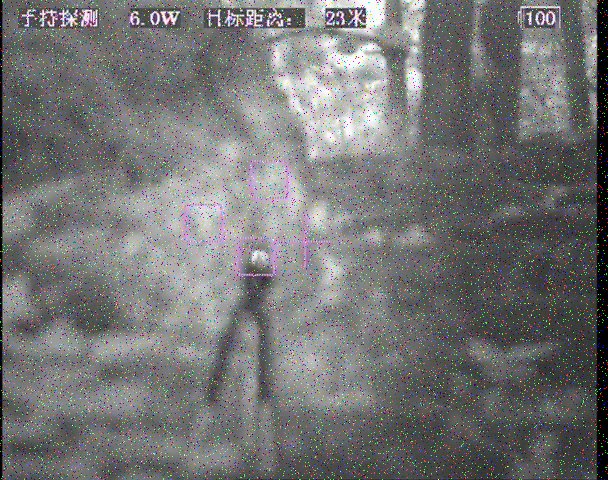my: (251, 247, 269, 269)
